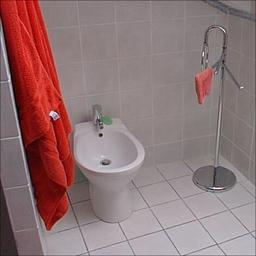Sanitario: (72, 106, 146, 223)
